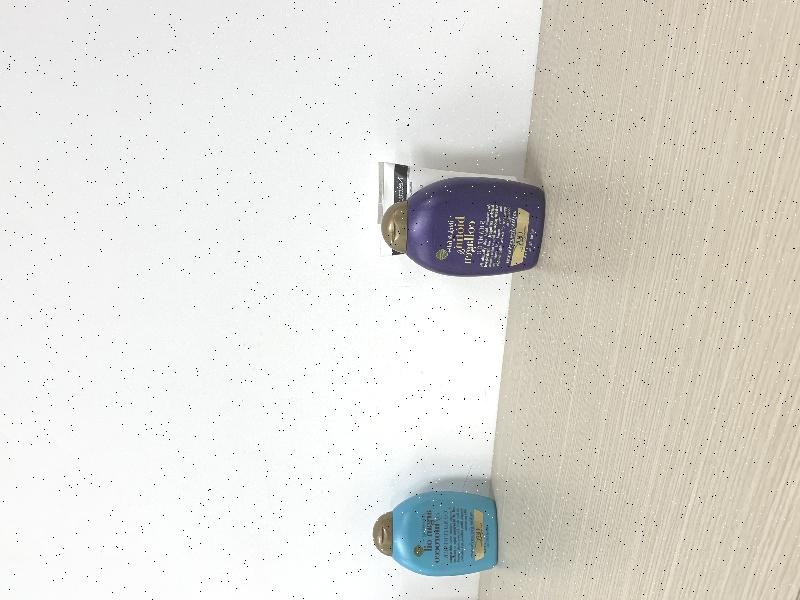ArganOilOfMorocco_Conditioner: (373, 490, 498, 576)
BiotinCollagen_Shampoo: (381, 177, 546, 278)
